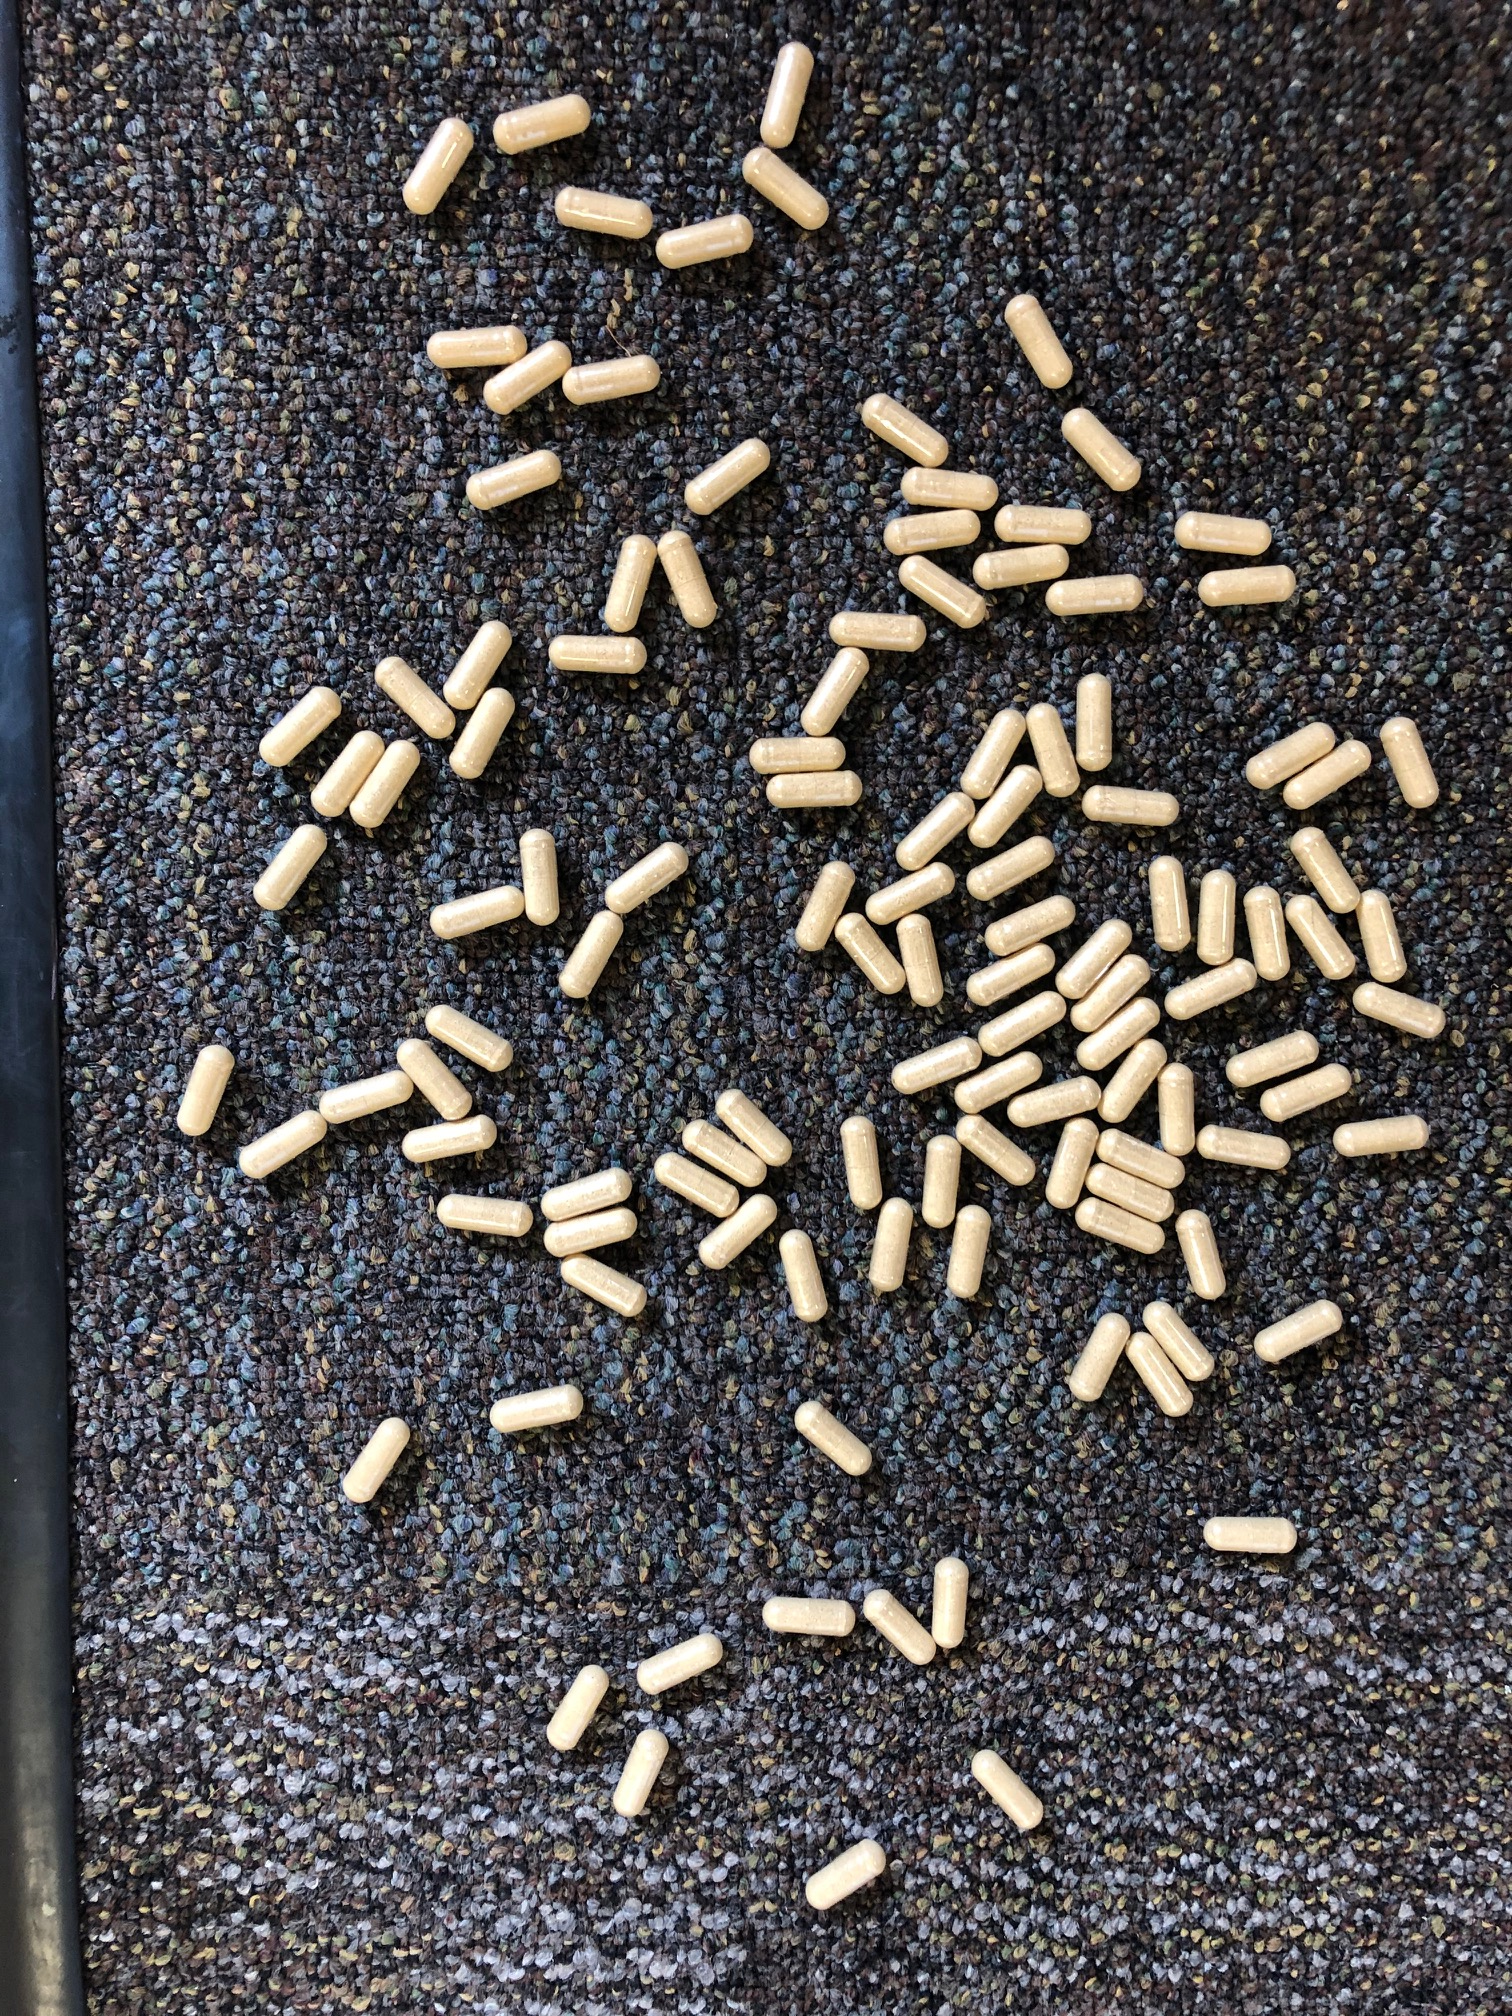capsule: (383, 114, 484, 221), (735, 144, 835, 232), (470, 337, 573, 421), (248, 679, 343, 768), (650, 524, 724, 632), (754, 33, 823, 151), (248, 818, 329, 916), (418, 997, 518, 1076), (372, 649, 457, 741), (1253, 1291, 1345, 1376), (1058, 405, 1145, 494), (307, 725, 384, 824), (492, 89, 597, 162), (689, 1187, 780, 1272), (966, 1741, 1050, 1832), (345, 737, 427, 829), (951, 706, 1031, 802), (599, 841, 696, 919), (712, 1087, 800, 1172), (427, 871, 527, 946), (232, 1110, 335, 1181), (391, 1037, 473, 1125), (1237, 716, 1337, 789), (997, 294, 1075, 387), (1120, 1327, 1198, 1421), (893, 552, 988, 629), (788, 1397, 875, 1479), (681, 437, 772, 516), (1283, 825, 1363, 916), (1280, 737, 1372, 814), (440, 687, 515, 783), (1067, 949, 1151, 1033), (1137, 1297, 1218, 1384), (858, 392, 950, 468), (438, 621, 515, 713), (953, 1106, 1039, 1187), (1075, 995, 1163, 1075), (554, 906, 626, 1003), (1347, 975, 1450, 1041), (677, 1118, 770, 1191), (804, 1837, 886, 1919), (1280, 892, 1356, 981), (1097, 1037, 1174, 1125), (1379, 711, 1444, 814), (893, 791, 975, 871), (1055, 916, 1132, 1002), (1063, 1306, 1129, 1406), (832, 910, 908, 997), (797, 648, 872, 737), (338, 1418, 413, 1506), (977, 986, 1067, 1057), (610, 1724, 675, 1822), (967, 764, 1042, 849), (562, 349, 665, 411), (550, 181, 654, 241), (557, 1249, 648, 1319), (1163, 956, 1259, 1021), (859, 1586, 940, 1664), (862, 857, 955, 925), (775, 1225, 835, 1329), (1083, 1160, 1178, 1225), (653, 210, 758, 268), (988, 495, 1097, 551), (967, 837, 1058, 903), (1237, 884, 1298, 984), (1021, 702, 1083, 798), (1093, 1127, 1190, 1189), (1070, 1192, 1167, 1254), (631, 1632, 727, 1694), (793, 860, 858, 952), (653, 1149, 740, 1218), (886, 1033, 985, 1094), (546, 1662, 607, 1760), (875, 506, 985, 560), (951, 1048, 1042, 1113), (170, 1045, 233, 1137), (465, 449, 562, 510), (1259, 1060, 1353, 1122), (980, 894, 1075, 954), (602, 533, 658, 637), (893, 910, 950, 1010), (483, 1383, 588, 1437), (1355, 886, 1410, 987), (896, 459, 1002, 511), (318, 1067, 418, 1122), (962, 946, 1055, 1006), (1198, 1506, 1302, 1559), (1172, 1206, 1229, 1302), (1193, 1118, 1293, 1172), (1193, 564, 1302, 613), (535, 1167, 632, 1222), (824, 606, 932, 656), (1225, 1027, 1317, 1084), (1142, 854, 1194, 954), (426, 317, 532, 367), (1077, 781, 1182, 830), (1004, 1076, 1102, 1129), (400, 1111, 499, 1164), (758, 1592, 866, 1640), (543, 629, 650, 676), (543, 1206, 637, 1260), (970, 541, 1072, 591), (928, 1554, 978, 1652), (943, 1202, 993, 1302), (912, 1132, 962, 1229), (1155, 1057, 1202, 1159), (518, 822, 562, 930), (1045, 568, 1145, 616), (1042, 1118, 1093, 1211), (1172, 510, 1274, 556), (1074, 668, 1117, 776), (435, 1189, 537, 1233), (1333, 1113, 1433, 1157), (840, 1111, 885, 1211), (762, 768, 869, 810), (1198, 867, 1240, 967), (869, 1195, 912, 1294), (748, 732, 848, 771)
